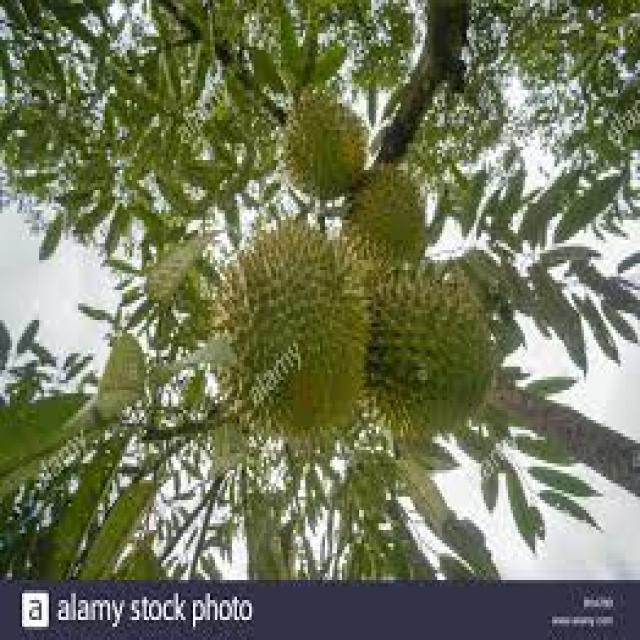immature: (203, 211, 377, 454), (372, 256, 498, 449), (280, 93, 370, 208)
